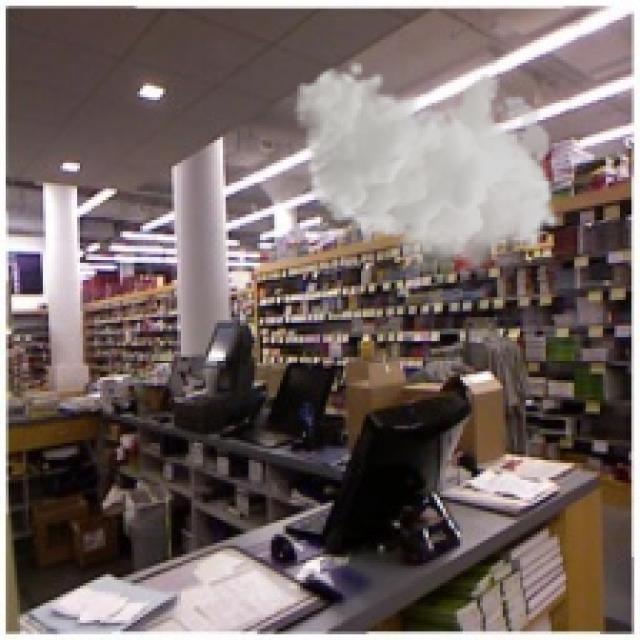smoke: (294, 60, 560, 280)
